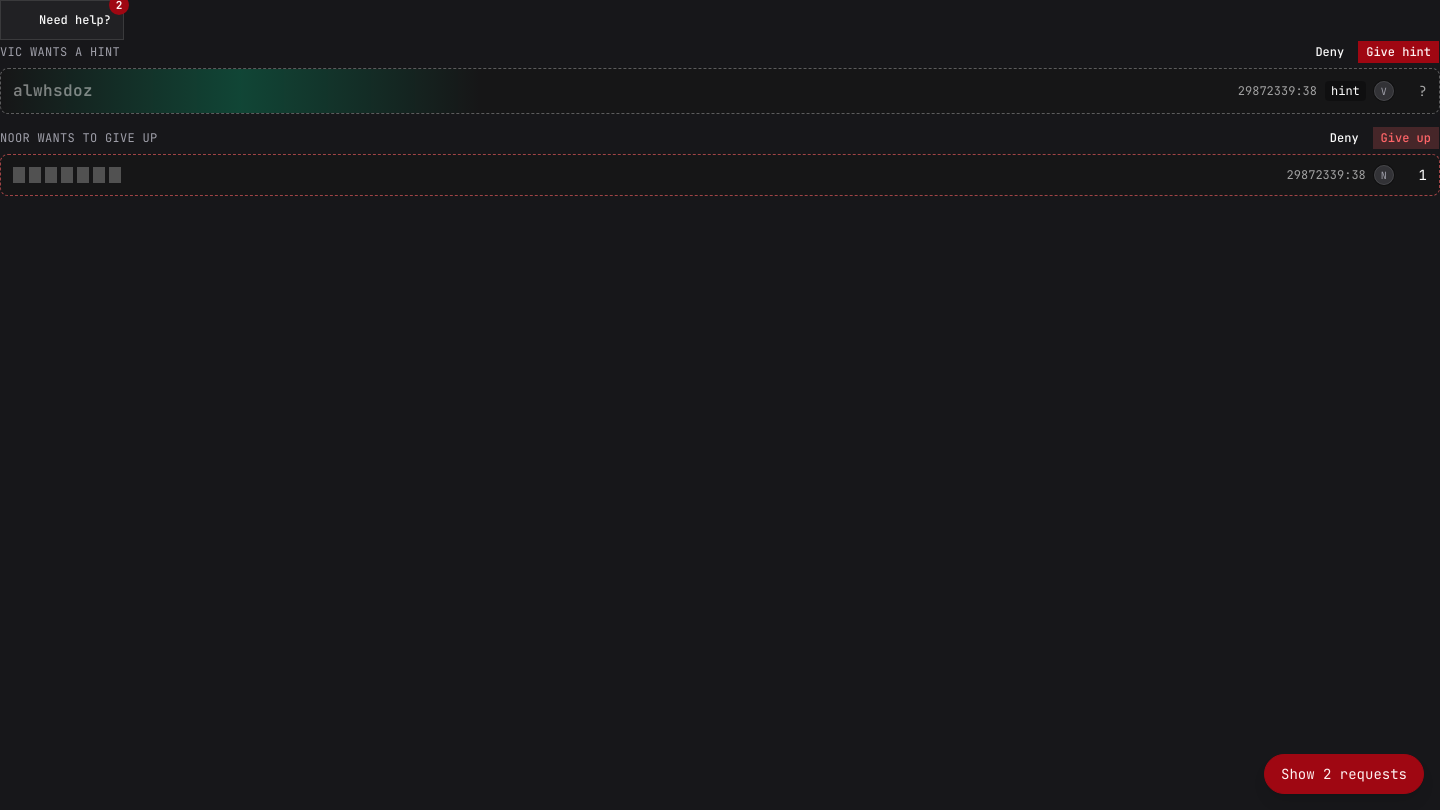
Scenario: HostRequestRows › offers a way to the requests from down the page
Click the button "Show 2 requests" at [1344, 774], box [1264,754,1424,794]
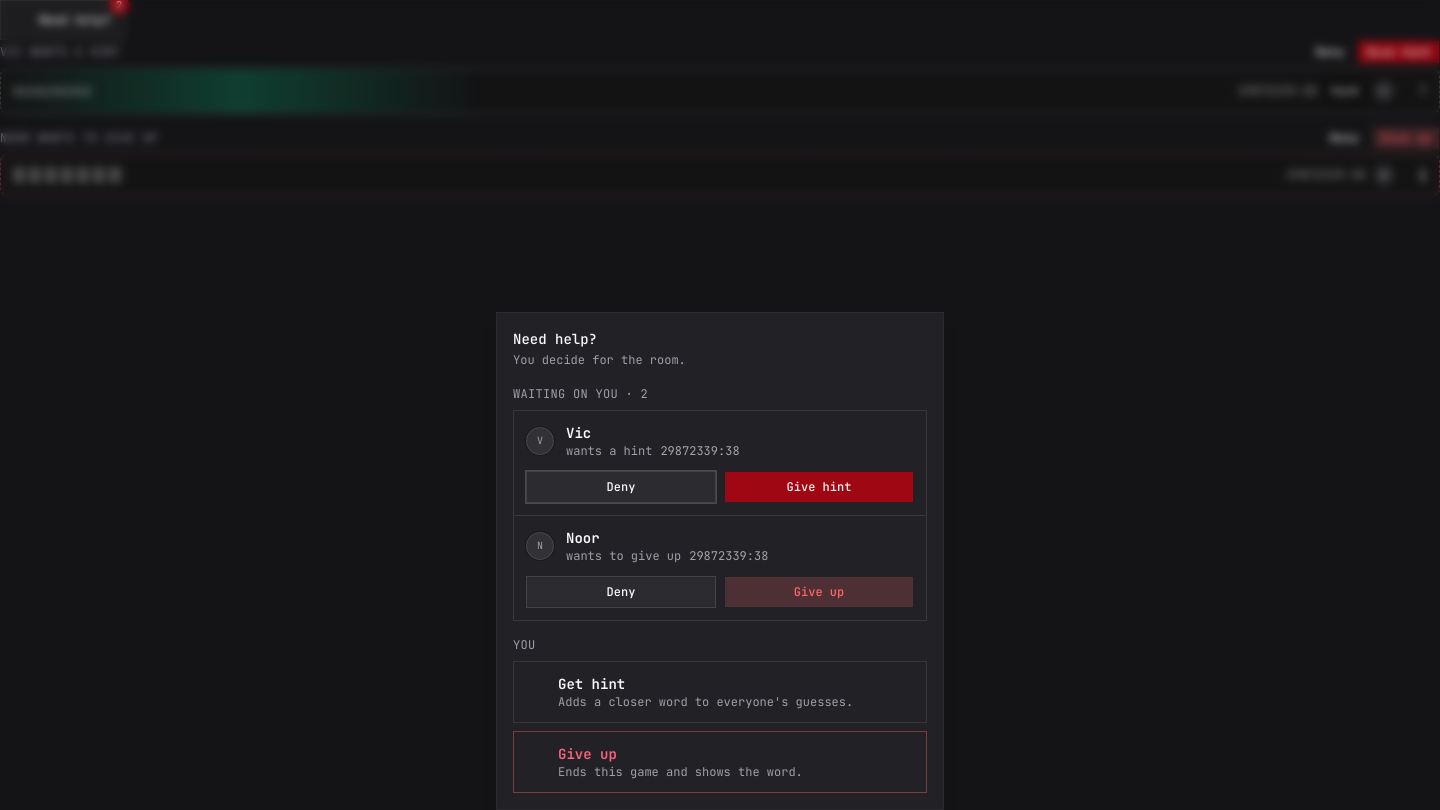
expect the dialog is shown: met, box [496,312,944,809]
expect the heading "Waiting on you · 2" is shown: met, box [513,386,648,402]
